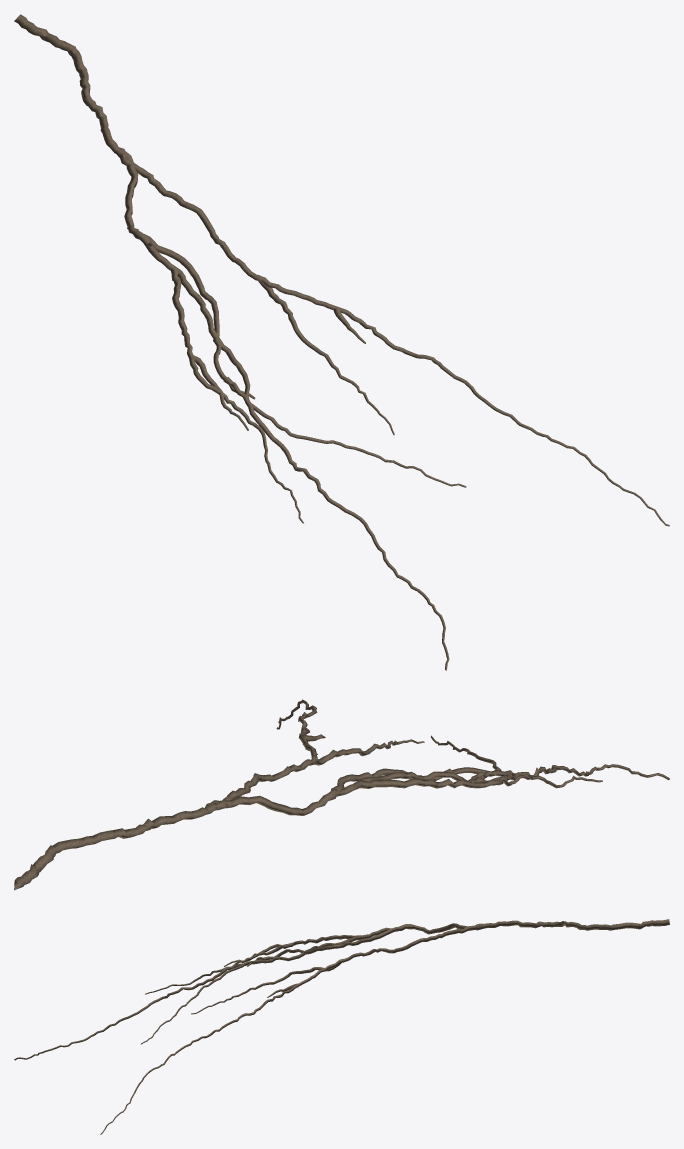
File: SM_roots_9.fbx
3 views of the same model, one above another, from view 1: azimuth 30°, elevation 25°; view 2: azimuth 150°, elevation 25°; view 3: azimuth 270°, elevation 25° (orthographic). The views are drawn at different scales.
Parts seen in each view (by area): view 1: SM_roots_9_LOD0; view 2: SM_roots_9_LOD0; view 3: SM_roots_9_LOD0.
Boxes of the visible parts, <box> form: SM_roots_9_LOD0: <box>14,14,669,670</box>; SM_roots_9_LOD0: <box>14,699,669,890</box>; SM_roots_9_LOD0: <box>14,919,669,1134</box>.
Size of the model in its own units: 274 by 719 by 203.
